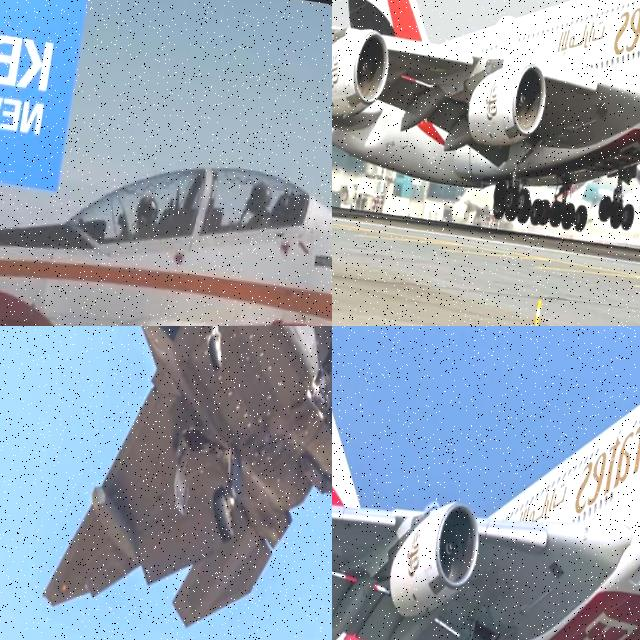A380: (332, 326, 640, 640), (332, 0, 640, 272)
F22: (37, 326, 332, 640)
KT-1: (0, 88, 332, 326)
